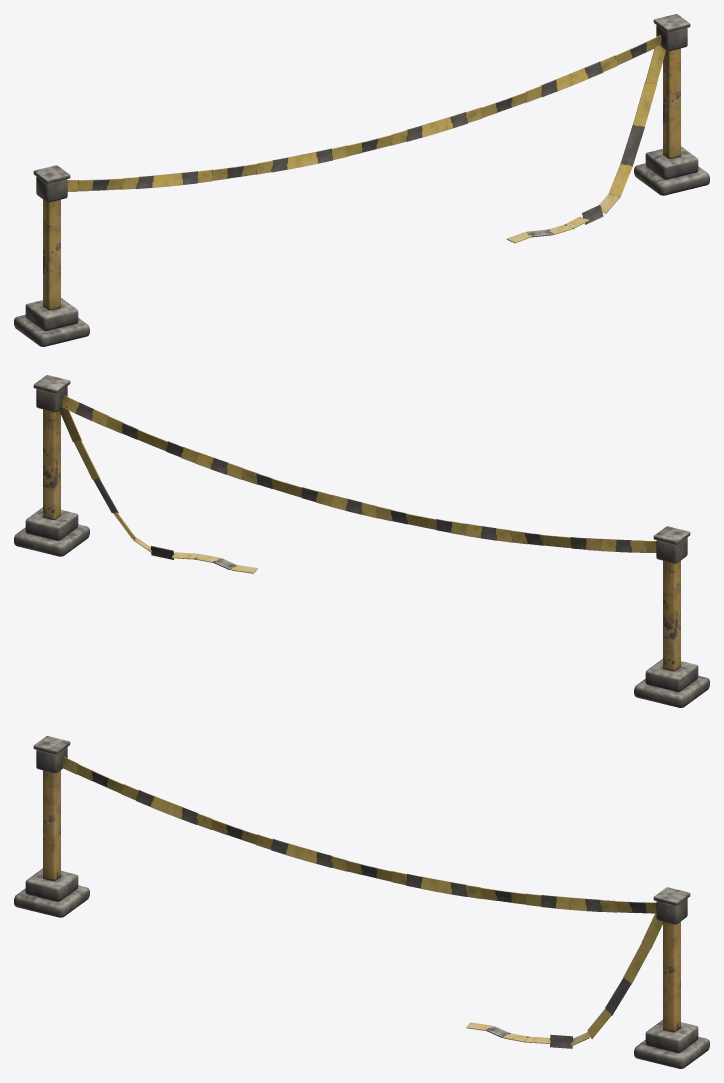
The model's file is caution_tape.fbx.
3 renders of one model, top to bottom at view 1: azimuth 30°, elevation 25°; view 2: azimuth 150°, elevation 25°; view 3: azimuth 330°, elevation 25°, orthographic.
Parts seen in each view (by area): view 1: Body; view 2: Body; view 3: Body.
Boxes of the visible parts, left/top/right/bottom form: Body: left=14, top=14, right=709, bottom=346; Body: left=14, top=375, right=709, bottom=707; Body: left=14, top=736, right=709, bottom=1068.
Bounding box in the file's own units: 17.3 × 4.07 × 1.79.
Materials: 1 (1 with a texture image).
